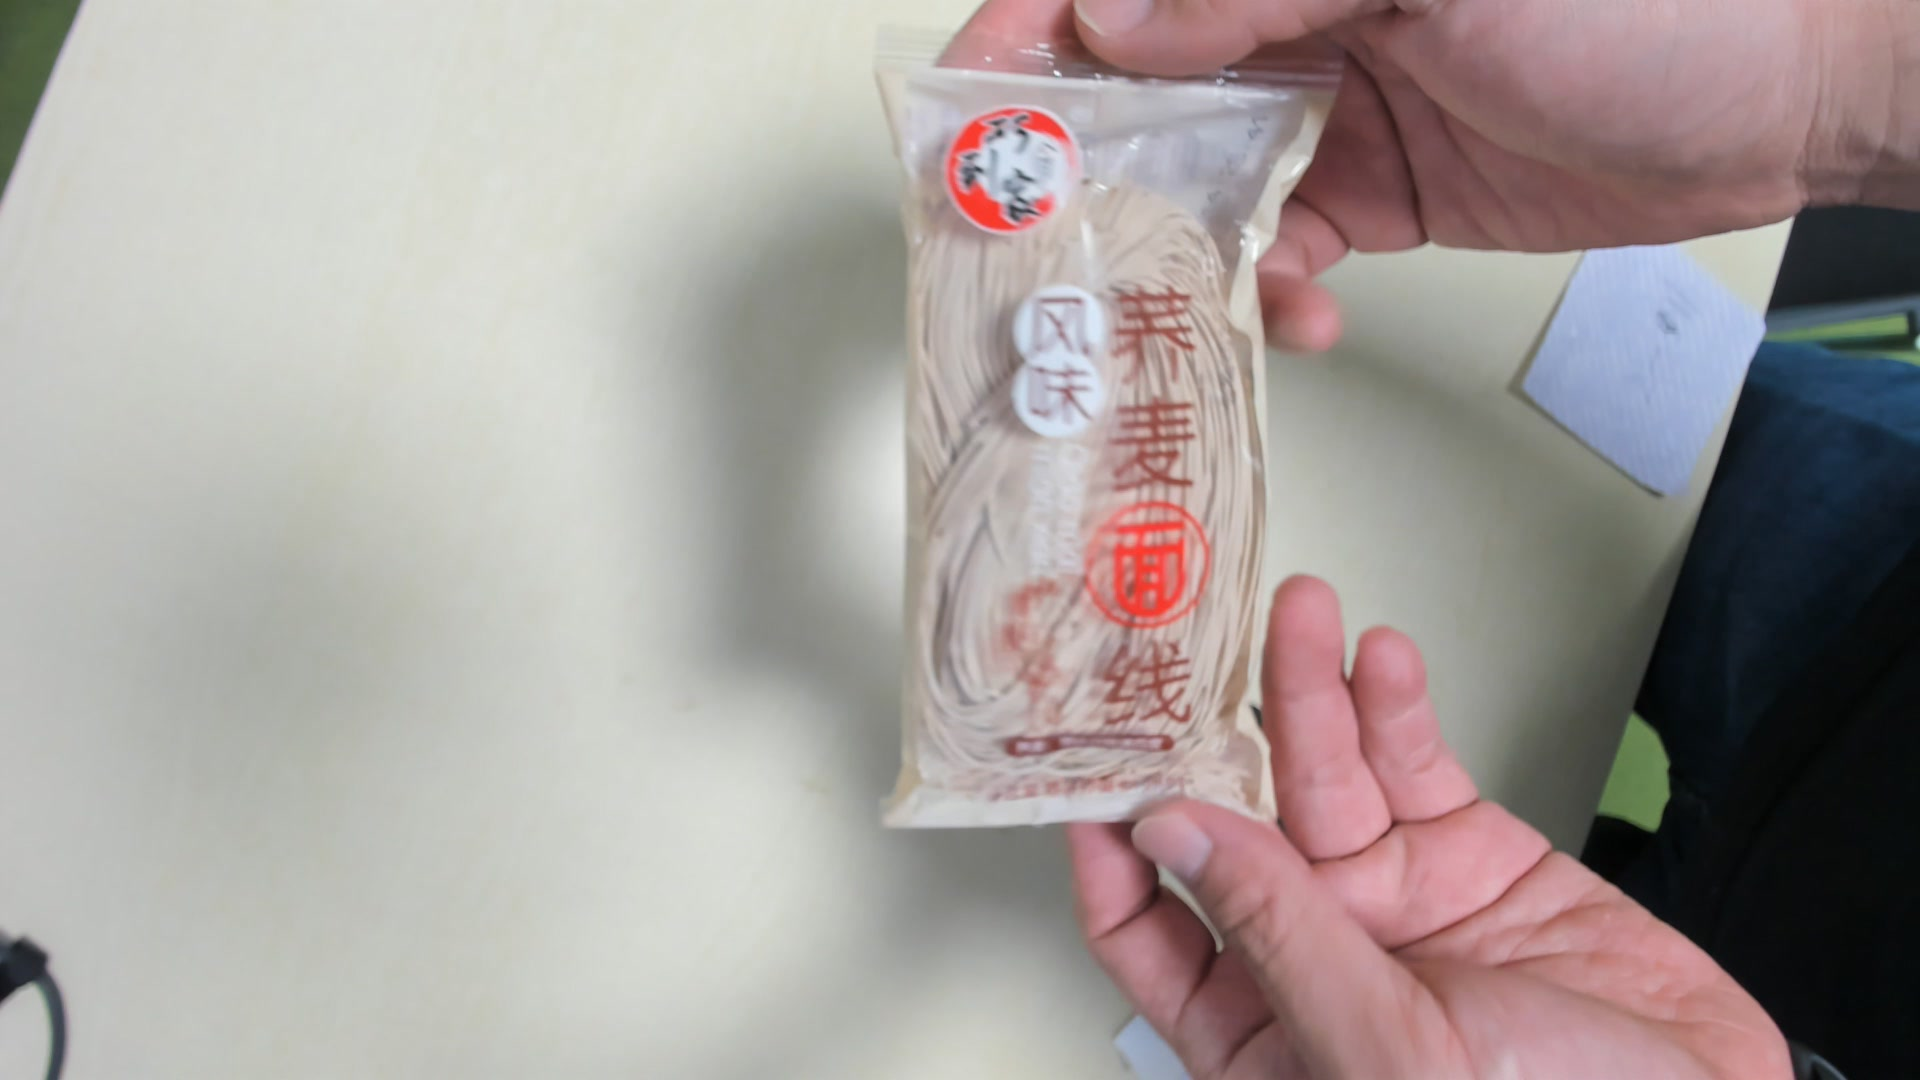BeeHoonVermicelli_0-99g_NonHalal_NonHealthy: (890, 36, 1299, 848)
